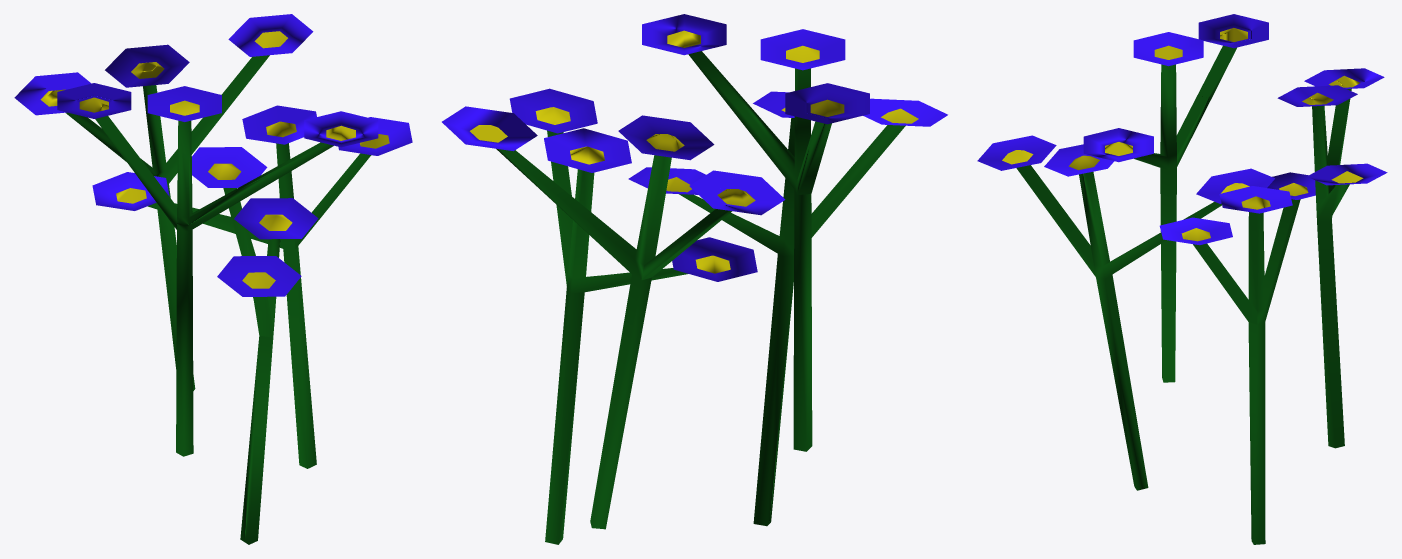
File: PurpleAster_LOD0.obj
3 renders of one model, left to right at view 1: azimuth 30°, elevation 25°; view 2: azimuth 150°, elevation 25°; view 3: azimuth 270°, elevation 25°, orthographic. The views are drawn at different scales.
Visible parts, largest first — view 1: PurpleAster_LOD0; view 2: PurpleAster_LOD0; view 3: PurpleAster_LOD0.
Boxes of the visible parts, <box> form: PurpleAster_LOD0: <box>14,14,412,544</box>; PurpleAster_LOD0: <box>442,14,947,544</box>; PurpleAster_LOD0: <box>977,14,1387,544</box>.
Size of the model in its own units: 23.96 by 30.35 by 26.93.
